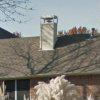Chimney: (32, 11, 66, 63)
